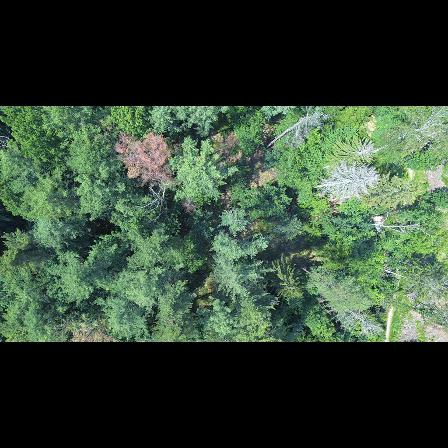Dead: (308, 159, 383, 203), (263, 106, 331, 152), (328, 297, 386, 338)
